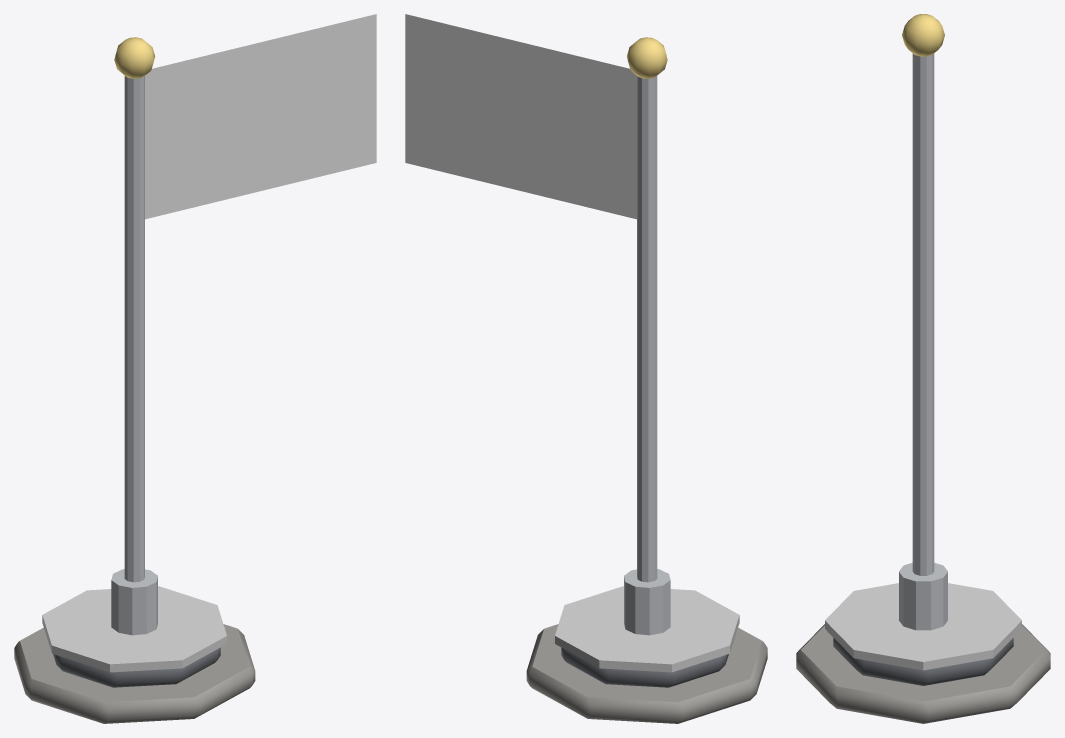
Rendered from flag_pole.glb.
3 views of the same model, side by side, from view 1: azimuth 30°, elevation 25°; view 2: azimuth 150°, elevation 25°; view 3: azimuth 270°, elevation 25° (orthographic). The views are drawn at different scales.
Visible parts, largest first — view 1: flag_pole, cloth; view 2: flag_pole, cloth; view 3: flag_pole.
Boxes of the visible parts, box(x1,y1,x2,y2) form: flag_pole: box(14, 37, 255, 723); cloth: box(145, 14, 376, 219); flag_pole: box(526, 37, 767, 723); cloth: box(405, 14, 636, 219); flag_pole: box(796, 14, 1050, 723).
Size of the model in its own units: 1.35 by 2.35 by 0.8247.
